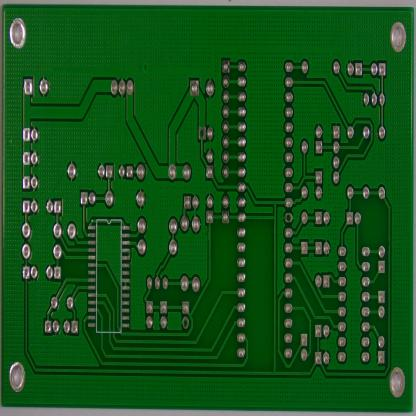missing_hole: (182, 315, 190, 333), (284, 210, 293, 225), (198, 126, 206, 142)
